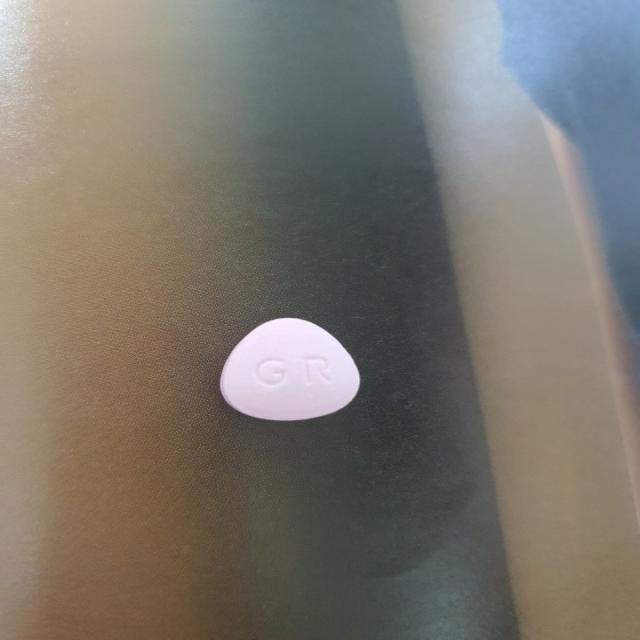pill: (206, 309, 374, 428)
